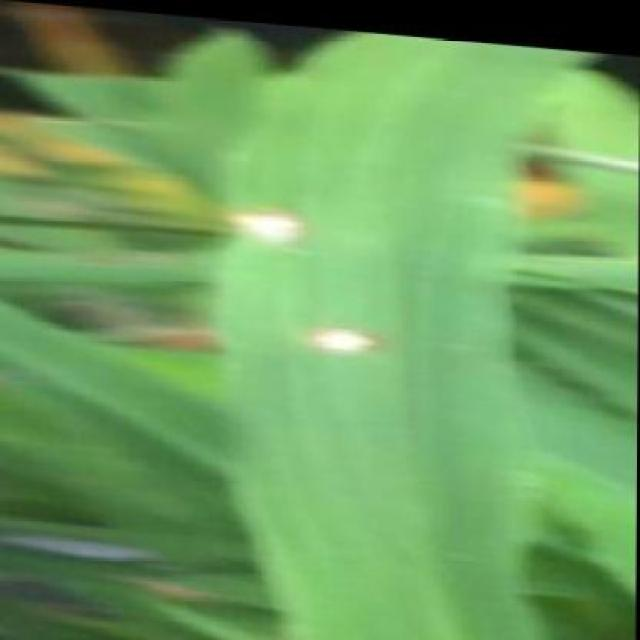Bacterial_Leaf_Blight: (202, 159, 331, 258), (294, 298, 398, 396)
